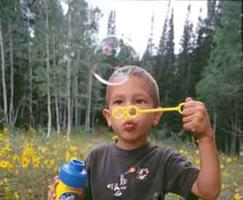person: (49, 65, 222, 200)
